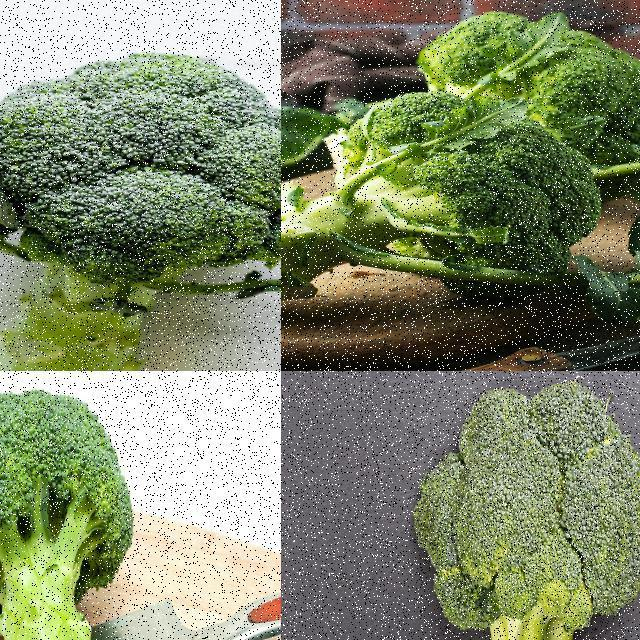broccoli: (0, 51, 280, 370), (281, 91, 609, 330), (410, 377, 639, 639), (414, 6, 639, 172), (0, 371, 135, 639)
